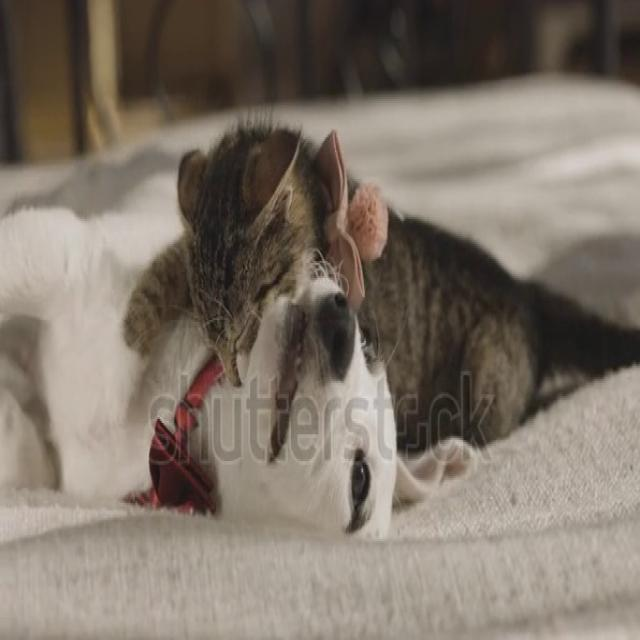normal_animals: (1, 106, 638, 544)
